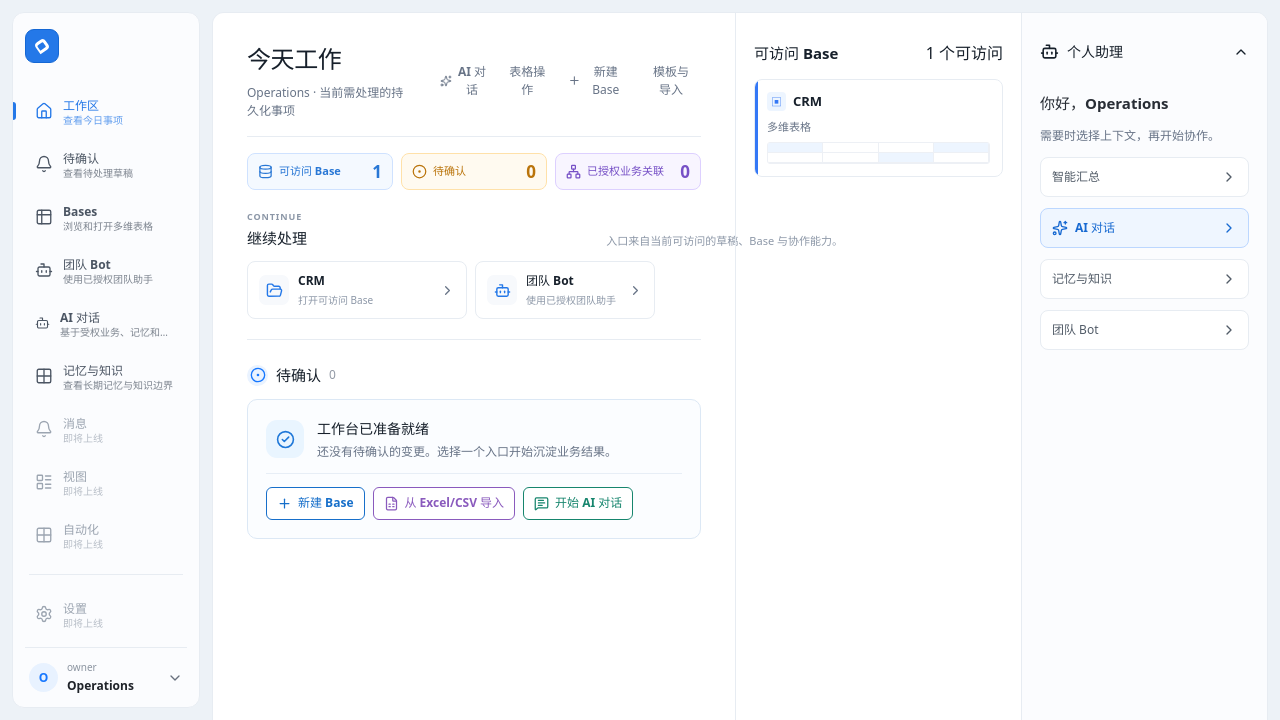
Test: reloads canonical member grants after an access version conflict without refetching records
The width and height of the screenshot is (1280, 720).
Click the link "▣ CRM 多维表格". click: (878, 128)
box: [754,79,1003,177]
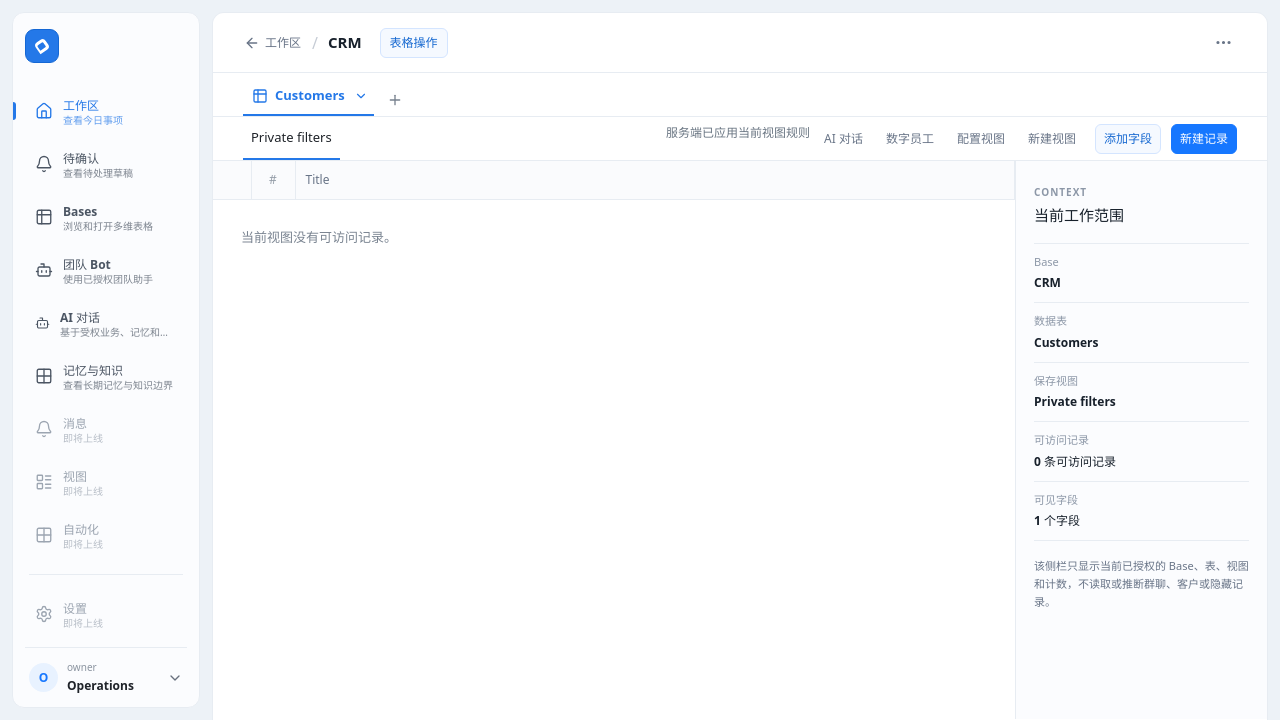
Click the button "配置视图". click: (981, 138)
box: [948,124,1014,154]
(page scrolled)
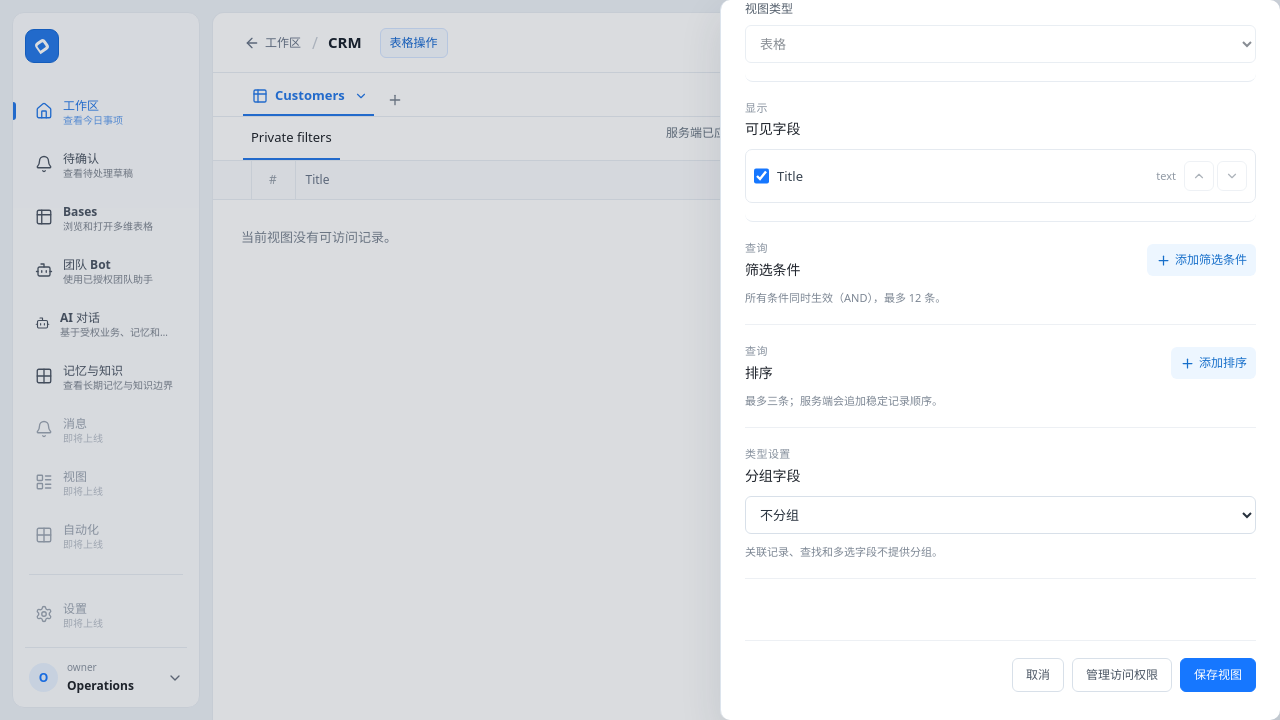
Click the button "管理访问权限". click: (1122, 675)
box: [1072,658,1172,692]
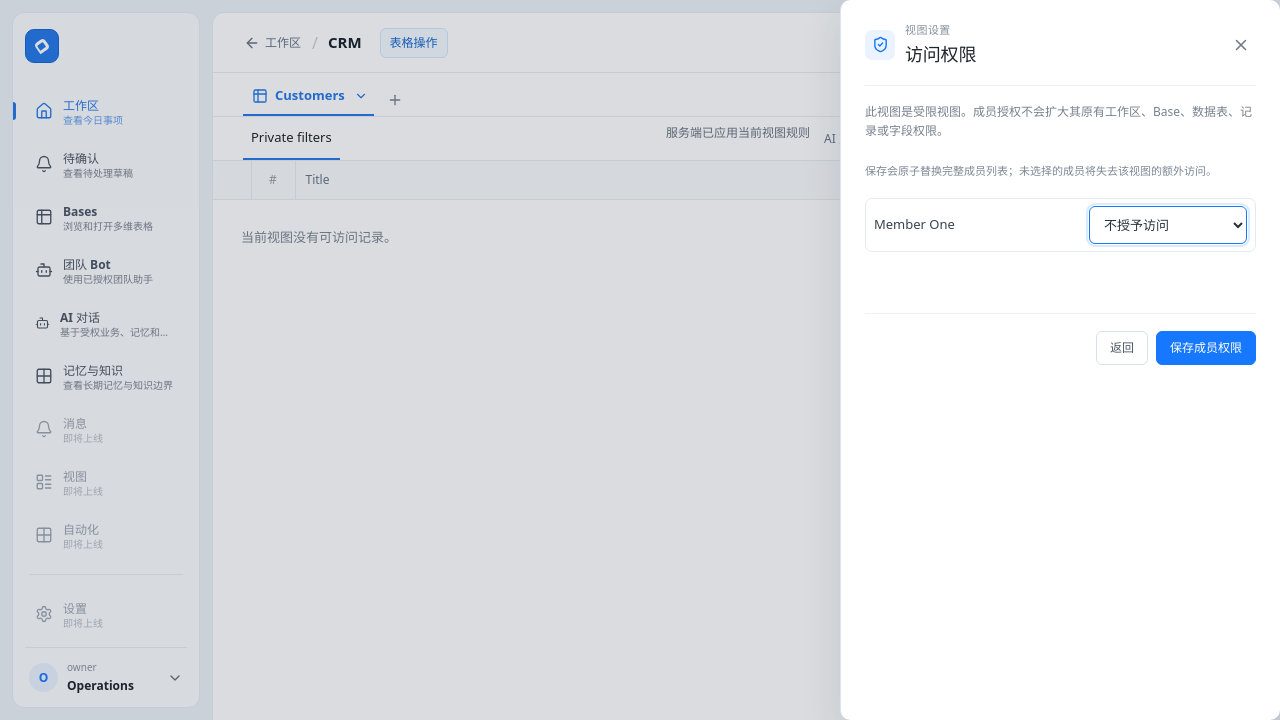
Select "查看者" in the dropdown named "Member One 权限". click: (1168, 225)
box: [1089,206,1247,244]
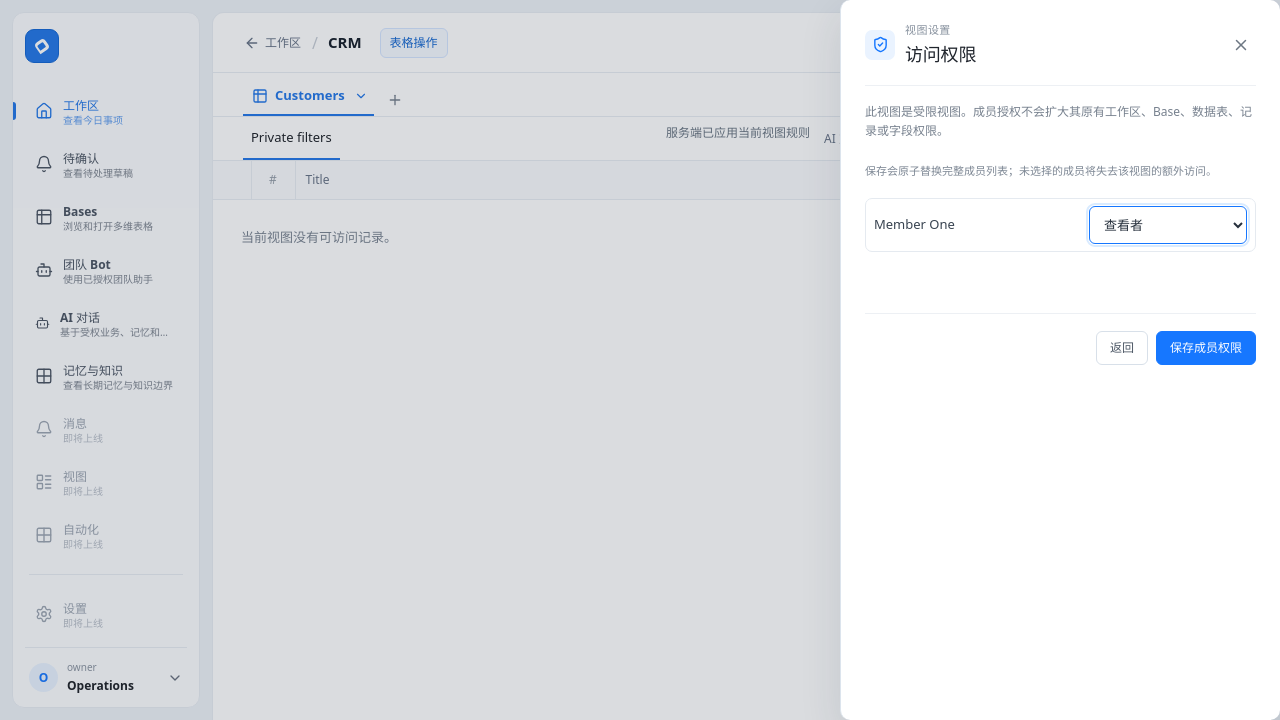
Click the button "保存成员权限". click: (1206, 348)
box: [1156,331,1256,365]
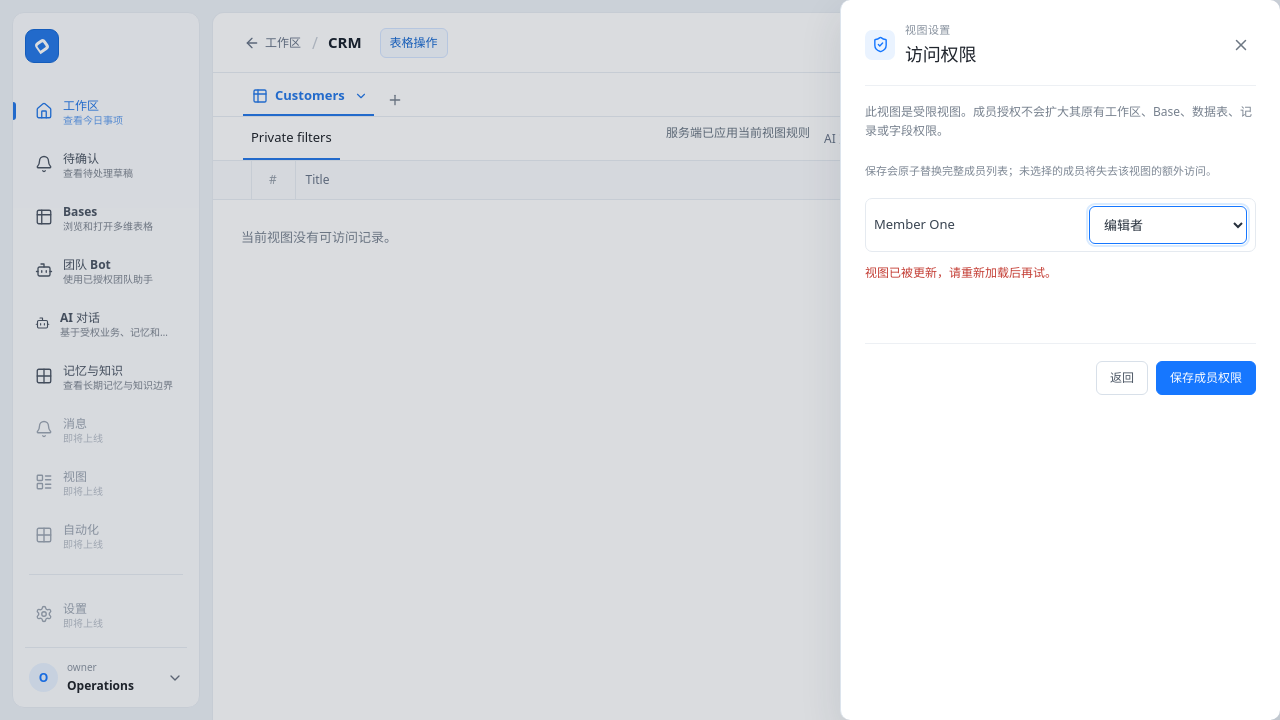
Now the text "视图已被更新，请重新加载后再试。" is shown, box [865,264,1057,281]
